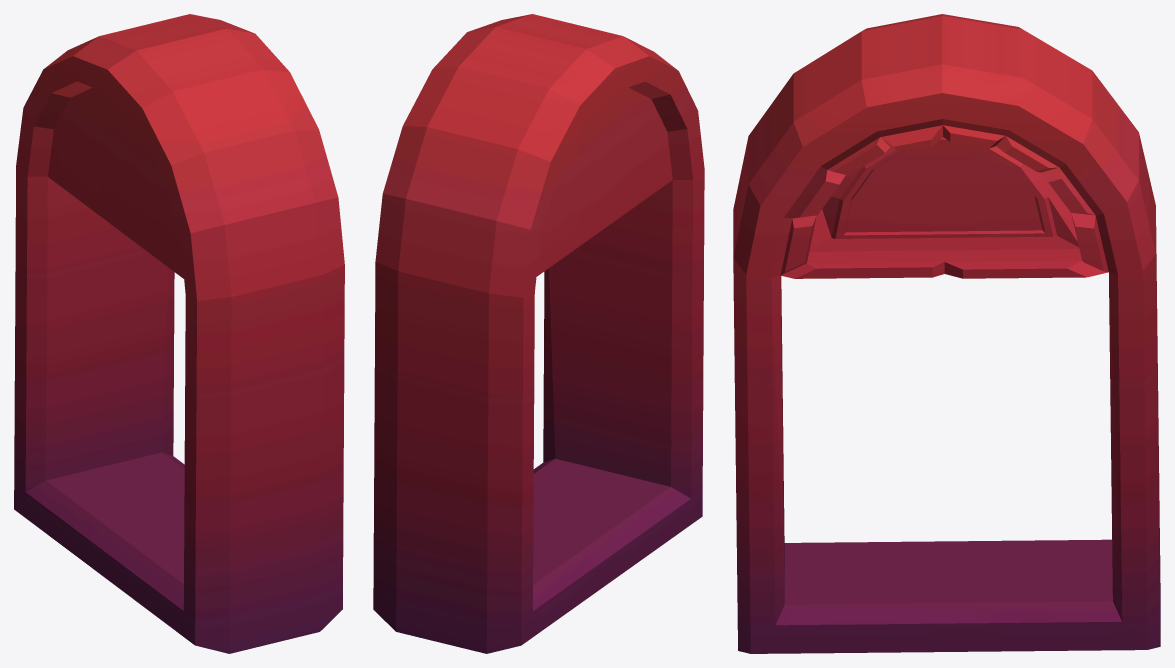
Rendered from hell_door.fbx.
3 views of the same model, side by side, from view 1: azimuth 30°, elevation 25°; view 2: azimuth 150°, elevation 25°; view 3: azimuth 270°, elevation 25° (orthographic). The views are drawn at different scales.
Parts seen in each view (by area): view 1: Cube_053_5; view 2: Cube_053_5; view 3: Cube_053_5.
Part boxes in pixels (left/top/right/bottom): Cube_053_5: left=14, top=14, right=344, bottom=653; Cube_053_5: left=373, top=14, right=704, bottom=653; Cube_053_5: left=733, top=14, right=1160, bottom=653.
Size of the model in its own units: 342 by 1092 by 721.
